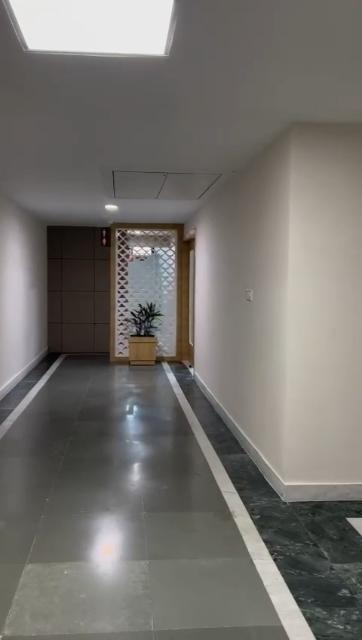door: (177, 243, 196, 363)
floor: (0, 351, 362, 640)
object: (127, 305, 162, 365)
wall: (200, 136, 361, 480), (3, 204, 51, 403)
